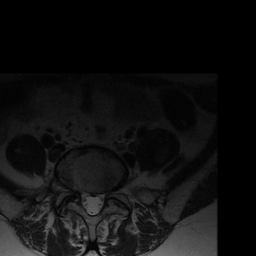CCS_normal: (89, 187, 96, 219)
LFS_severe_stenosis: (104, 183, 112, 204)
LLS_normal: (96, 188, 104, 216)
RFS_severe_stenosis: (73, 180, 81, 201)
RLS_normal: (81, 186, 89, 215)
